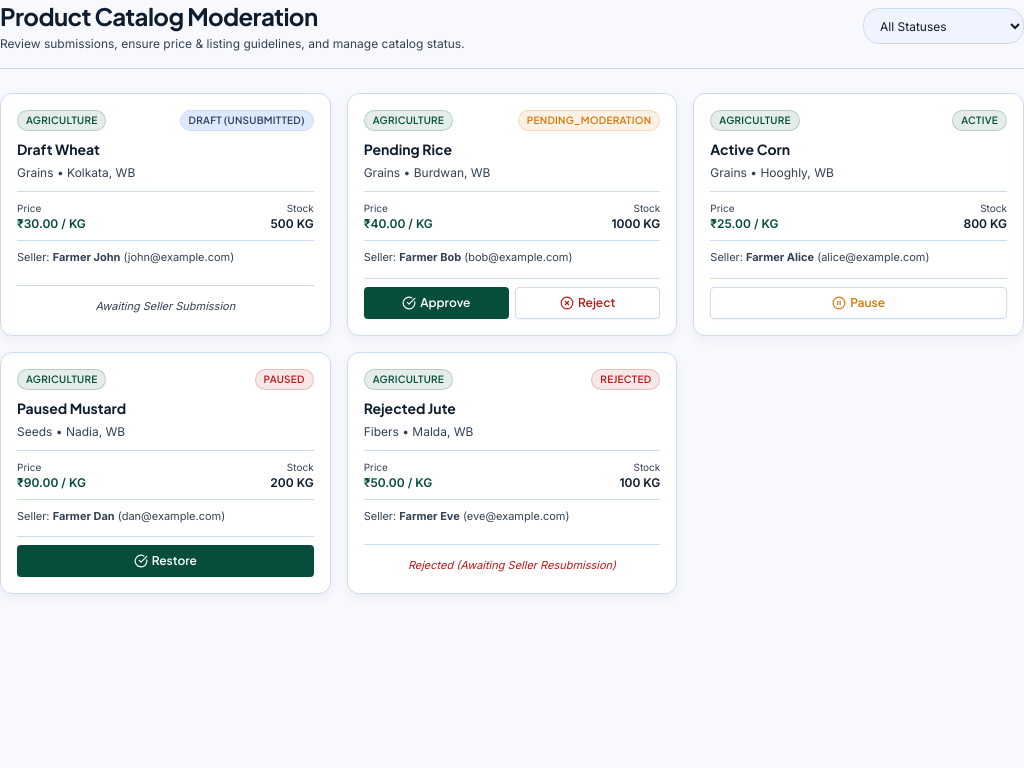
Admin Product Moderation View — State Machine and UI Guardrails › unmasks real server error message in UI banner when moderation fails
Note: Click Approve on the pending product
Click the button "Approve": (436, 302) [364, 286, 509, 318]
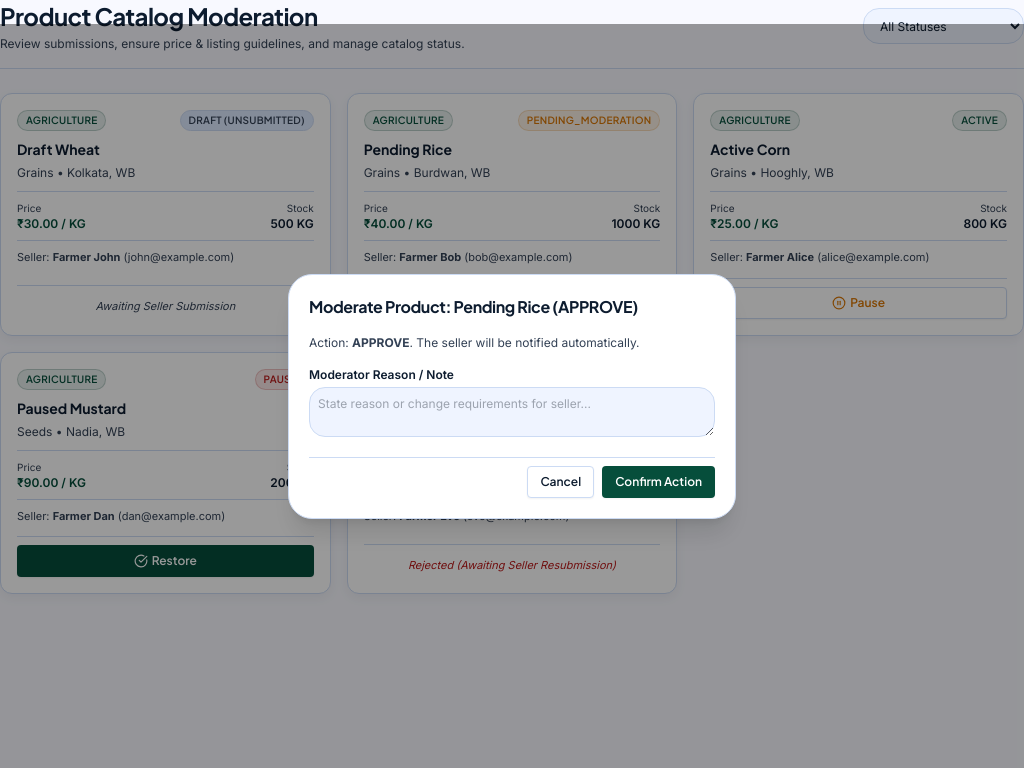
Note: Modal opens, click Confirm Action
Click the button "Confirm Action": (659, 482) [602, 466, 715, 498]
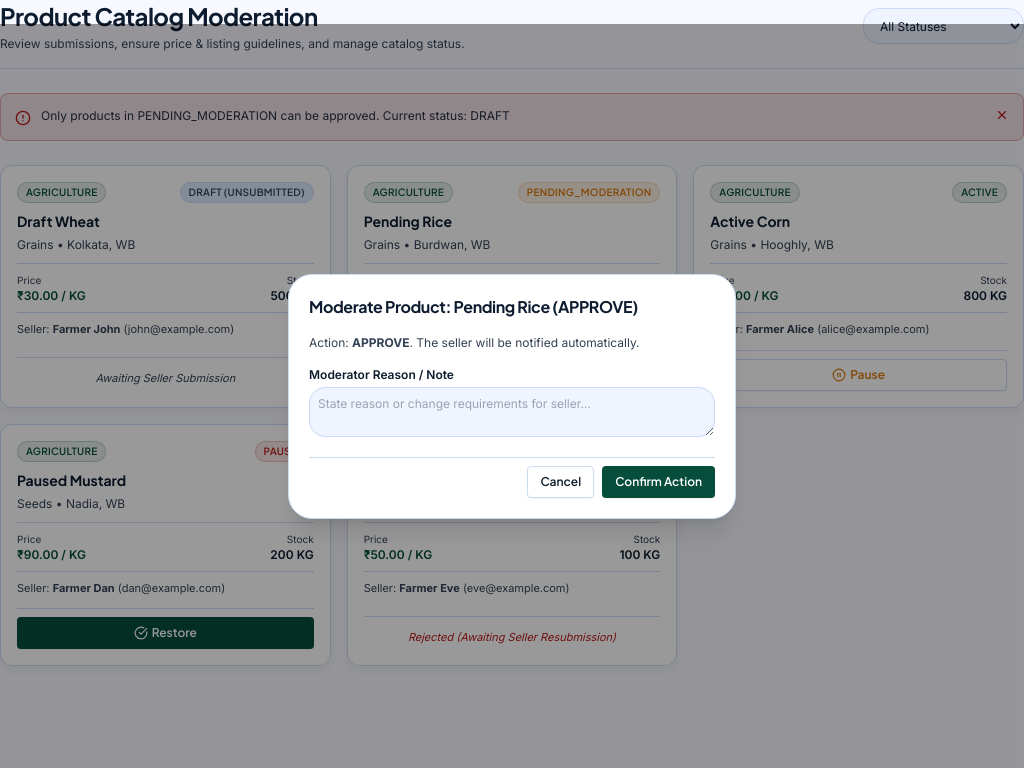
Expected: the text "Only products in PENDING_MODERATION can be approved. Current status: DRAFT" is shown, [41, 108, 510, 124]
